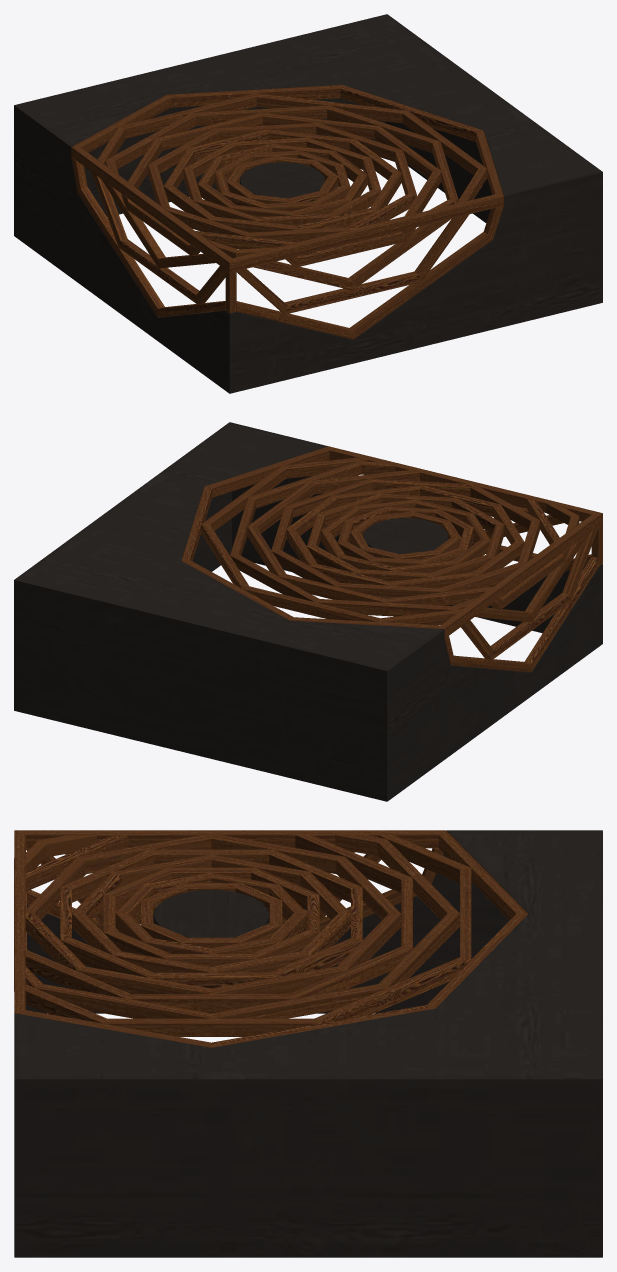
The model's file is coffee-table-square.glb.
3 views of the same model, one above another, from view 1: azimuth 30°, elevation 25°; view 2: azimuth 150°, elevation 25°; view 3: azimuth 270°, elevation 25° (orthographic). The views are drawn at different scales.
Parts seen in each view (by area): view 1: modern_coffee_table_02; view 2: modern_coffee_table_02; view 3: modern_coffee_table_02.
Part boxes in pixels (box(x1,y1,x2,y2)): modern_coffee_table_02: box(14, 14, 602, 393); modern_coffee_table_02: box(14, 422, 602, 801); modern_coffee_table_02: box(14, 830, 602, 1257).
Size of the model in its own units: 1.1 by 0.37 by 1.1.
2 materials, 2 textured.
